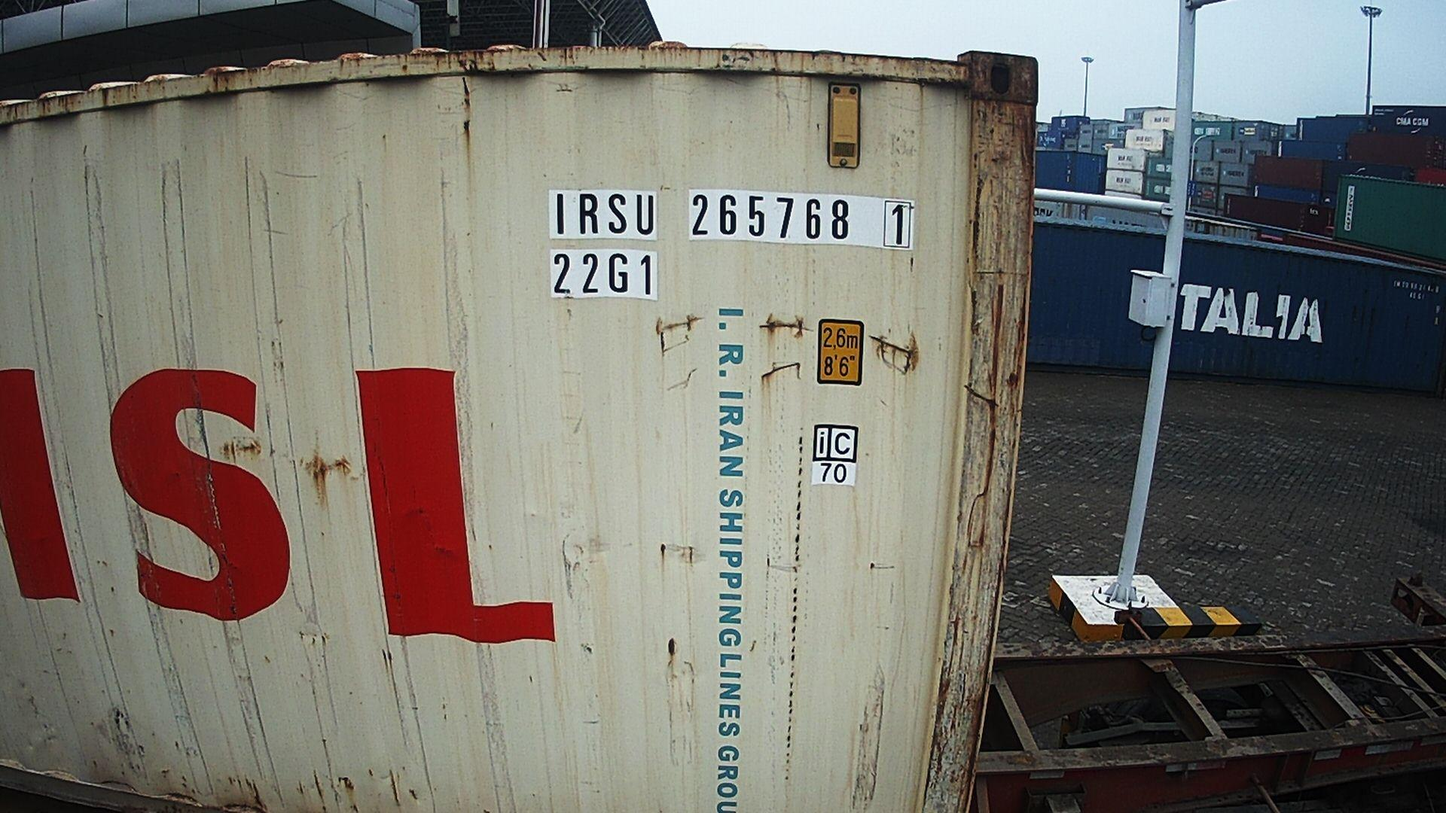container-numbers: (545, 188, 918, 248), (547, 248, 661, 300)
